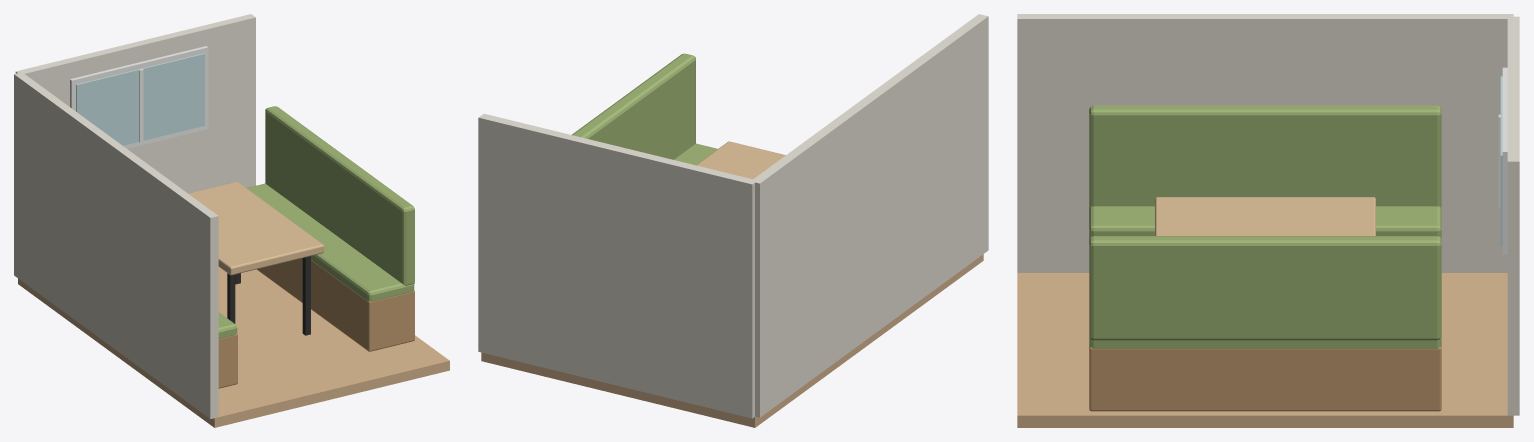
File: room1.glb
3 renders of one model, left to right at view 1: azimuth 30°, elevation 25°; view 2: azimuth 150°, elevation 25°; view 3: azimuth 270°, elevation 25°, orthographic. The views are drawn at different scales.
Parts seen in each view (by area): view 1: Left wall, Floor, Back wall, Green backrest.001, Window glass, Oak table, Bench base.001, Green seat.001, Window surround, Bench base, Table leg.002, Table leg; view 2: Back wall, Left wall, Green backrest.001, Floor, Oak table, Green seat.001; view 3: Left wall, Green backrest.001, Green backrest, Floor, Bench base.001, Oak table, Back wall, Green seat, Green seat.001, Window surround, Window glass.
Part boxes in pixels (<box>): Left wall: <box>14,72,218,418</box>; Floor: <box>18,267,449,427</box>; Back wall: <box>15,14,255,193</box>; Green backrest.001: <box>265,106,414,285</box>; Window glass: <box>76,53,204,145</box>; Oak table: <box>188,181,324,275</box>; Bench base.001: <box>256,258,414,351</box>; Green seat.001: <box>246,183,414,301</box>; Window surround: <box>70,46,208,148</box>; Bench base: <box>218,333,237,388</box>; Table leg.002: <box>302,256,310,335</box>; Table leg: <box>227,273,235,323</box>; Back wall: <box>478,113,755,418</box>; Left wall: <box>751,14,988,417</box>; Green backrest.001: <box>572,53,695,159</box>; Floor: <box>481,254,983,427</box>; Oak table: <box>696,141,785,179</box>; Green seat.001: <box>674,143,717,165</box>; Left wall: <box>1017,14,1513,272</box>; Green backrest.001: <box>1089,236,1441,340</box>; Green backrest: <box>1089,105,1441,206</box>; Floor: <box>1017,273,1513,427</box>; Bench base.001: <box>1089,347,1441,411</box>; Oak table: <box>1155,197,1375,235</box>; Back wall: <box>1507,16,1519,415</box>; Green seat: <box>1089,206,1441,237</box>; Green seat.001: <box>1089,337,1441,348</box>; Window surround: <box>1502,67,1507,254</box>; Window glass: <box>1500,76,1502,246</box>.
Size of the model in its own units: 2.05 by 1.73 by 2.96.
